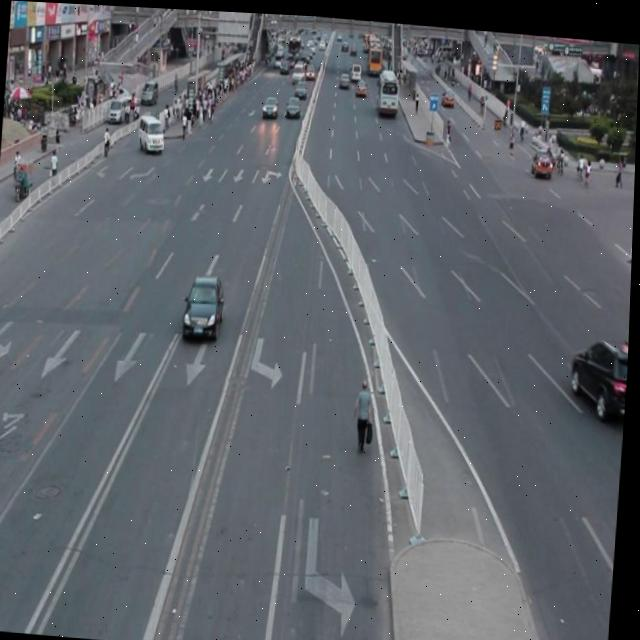car: (569, 325, 631, 411), (182, 270, 226, 342)
